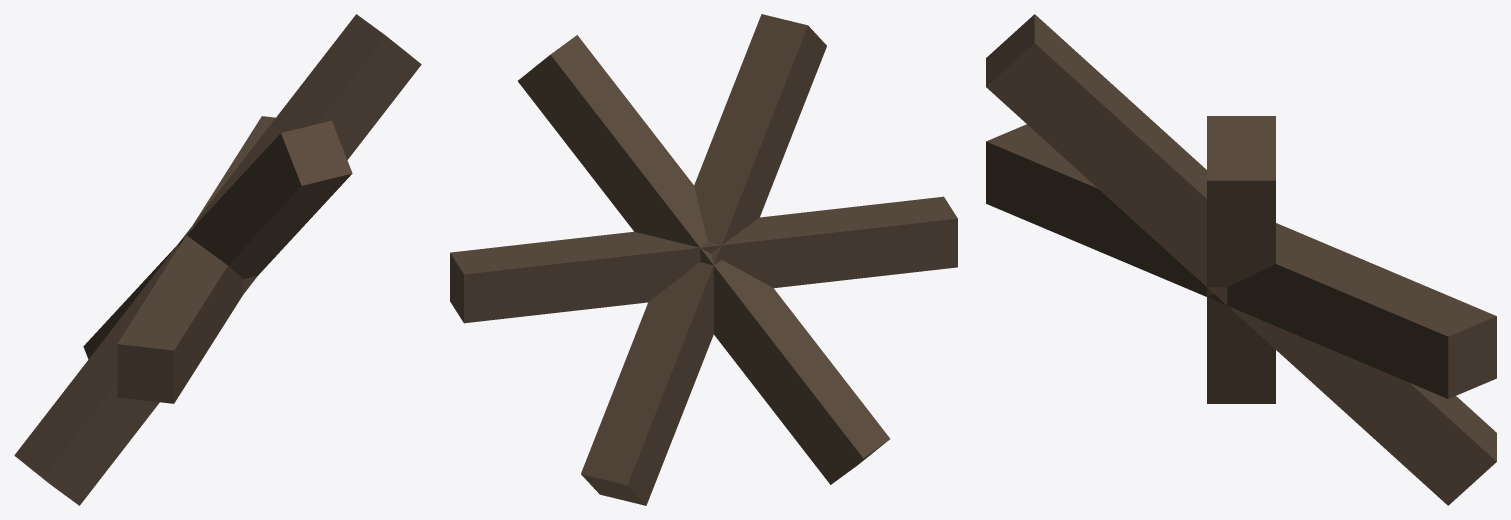
Rendered from TankTrap.fbx.
3 views of the same model, side by side, from view 1: azimuth 30°, elevation 25°; view 2: azimuth 150°, elevation 25°; view 3: azimuth 270°, elevation 25° (orthographic). The views are drawn at different scales.
Visible parts, largest first — view 1: Beam1, Beam0, Beam2; view 2: Beam1, Beam0, Beam2; view 3: Beam0, Beam2, Beam1.
Part boxes in pixels (bbox=[...]): Beam1: bbox=[14, 14, 421, 505]; Beam0: bbox=[83, 120, 352, 359]; Beam2: bbox=[117, 116, 275, 403]; Beam1: bbox=[518, 35, 889, 484]; Beam0: bbox=[581, 14, 826, 505]; Beam2: bbox=[450, 196, 957, 323]; Beam0: bbox=[986, 14, 1496, 505]; Beam2: bbox=[986, 124, 1496, 398]; Beam1: bbox=[1207, 116, 1275, 403].
Bounding box in the file's own units: 148 × 148 × 148.
